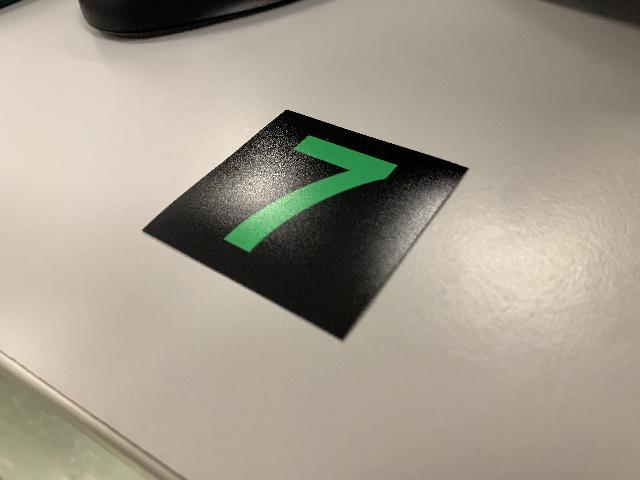seven: (136, 103, 473, 348)
